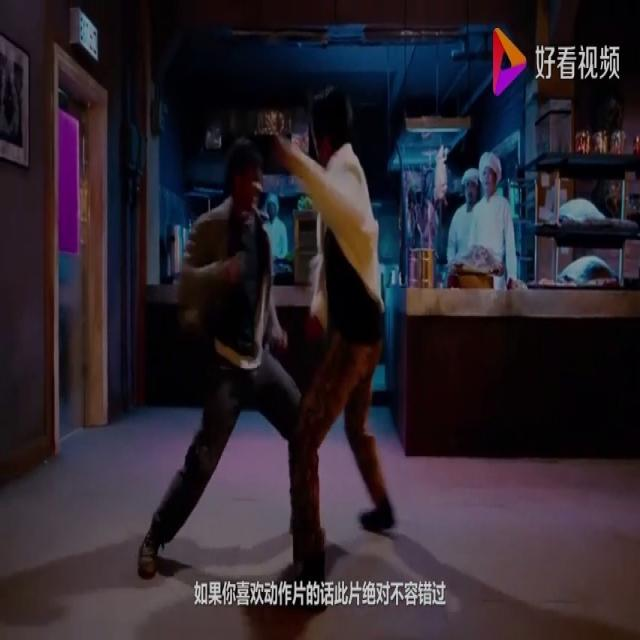fight: (136, 26, 409, 622)
